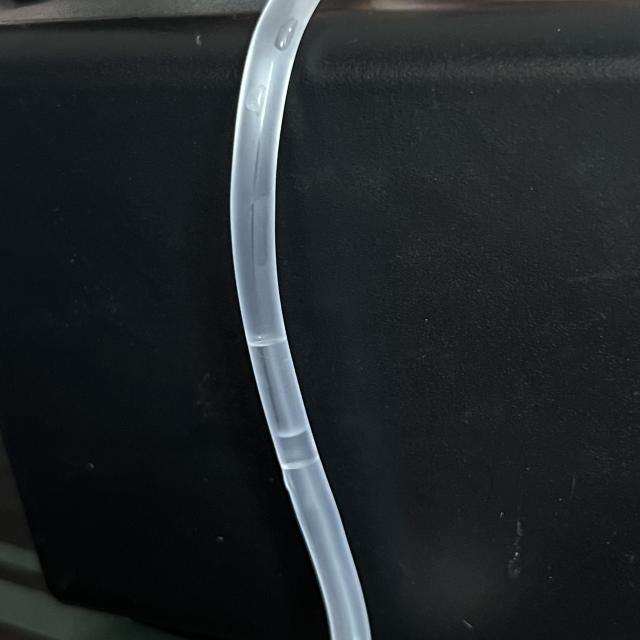bubble: (260, 428, 346, 476), (222, 329, 312, 360)
